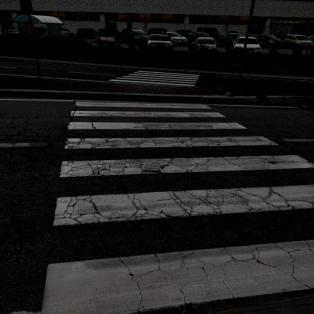Paso de Cebra: (32, 179, 314, 313), (61, 120, 279, 152)
